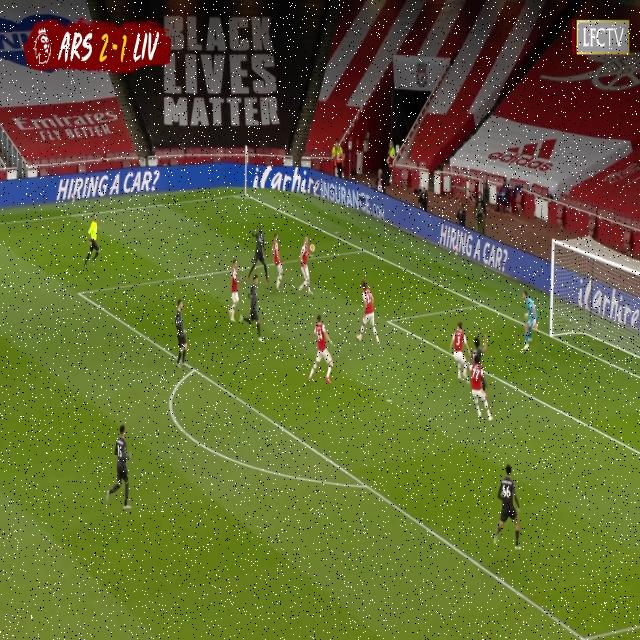Ball: (310, 237, 317, 256)
GoalKeeper: (521, 290, 537, 350)
TEAM 1: (306, 315, 336, 386), (357, 279, 381, 346), (452, 323, 472, 382), (300, 238, 317, 298), (228, 258, 242, 326), (270, 230, 284, 286)
TEAM 2: (491, 466, 521, 552), (106, 424, 134, 509), (247, 228, 270, 284), (246, 276, 264, 344), (471, 360, 489, 427), (174, 300, 190, 368), (471, 332, 487, 376)
